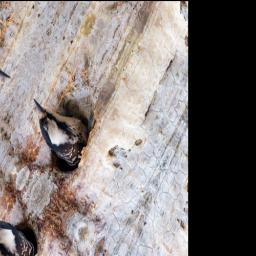Woodpecker: (21, 82, 94, 174)
